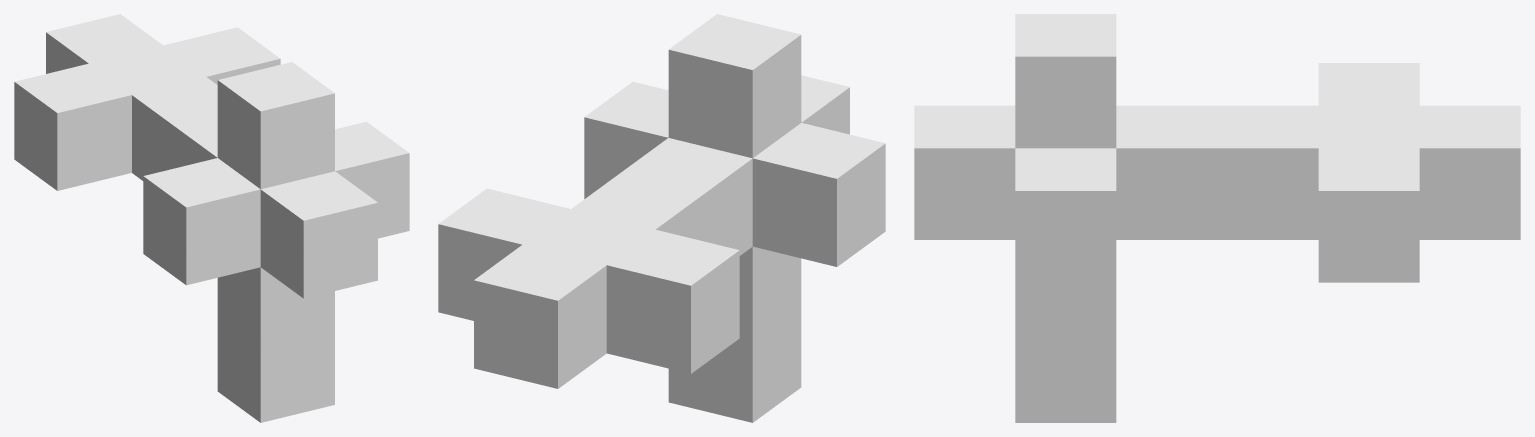
Rendered from sm_mining_laser3.gltf.
3 views of the same model, side by side, from view 1: azimuth 30°, elevation 25°; view 2: azimuth 150°, elevation 25°; view 3: azimuth 270°, elevation 25° (orthographic). The views are drawn at different scales.
Visible parts, largest first — view 1: Layer.1; view 2: Layer.1; view 3: Layer.1.
Part boxes in pixels (<box>): Layer.1: <box>14,14,409,422</box>; Layer.1: <box>438,14,885,422</box>; Layer.1: <box>914,14,1520,422</box>.
Bounding box in the file's own units: 0.18 × 0.24 × 0.36.
1 material, 1 textured.
